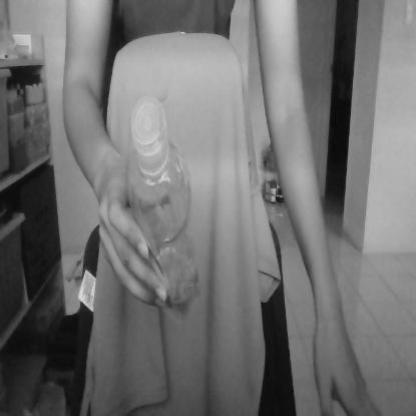Plastic Bottle: (123, 86, 204, 325)
